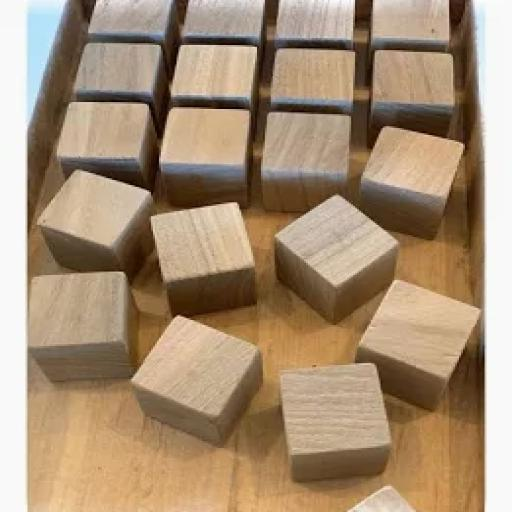mainan blok: (134, 314, 265, 447), (273, 192, 403, 326), (356, 280, 486, 412), (20, 267, 142, 385), (276, 362, 394, 482), (37, 166, 159, 282), (148, 202, 259, 322), (360, 125, 468, 240), (258, 110, 357, 212), (54, 101, 158, 198), (159, 105, 257, 205), (364, 51, 460, 139), (71, 41, 166, 126), (269, 48, 360, 118), (172, 44, 262, 114), (365, 4, 454, 54), (181, 0, 272, 45), (272, 0, 362, 45), (84, 0, 176, 42)
